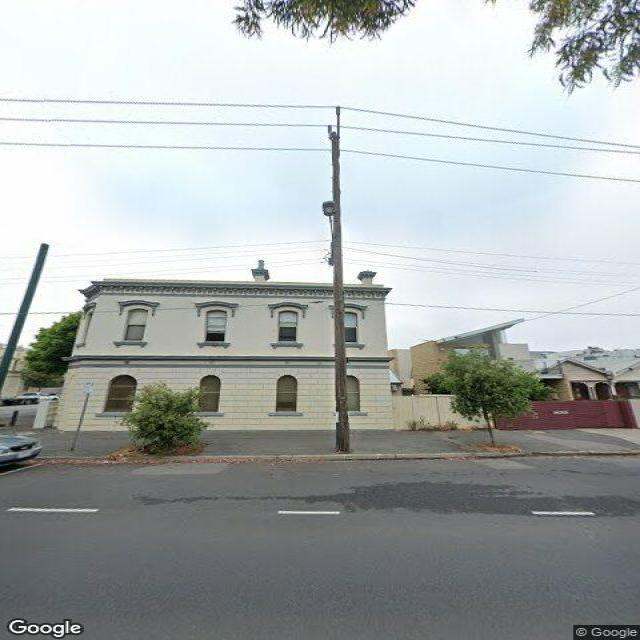HV-transmission: (327, 105, 341, 158)
crossarm: (337, 115, 340, 138)
streetlight: (322, 201, 337, 265)
timber-pole: (326, 127, 356, 456), (0, 242, 51, 392)
